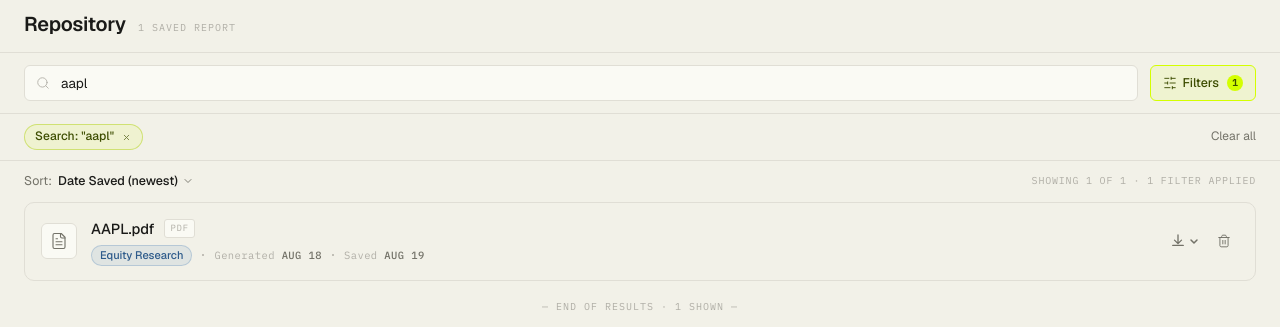
Scenario: Repository page › Clear all removes filters and resets URL
Expected: the text "Search: \"aapl\"" is shown, [35, 127, 114, 147]
What coordinates should you click on to do the following:
click the button "Clear all"
I would click on:
 (1233, 137)
Its box is [1211, 127, 1256, 147].
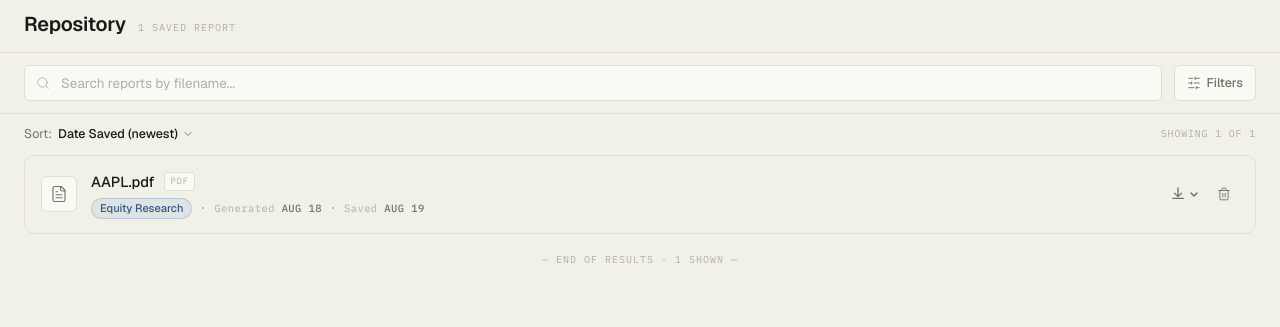
Expected: the text "Search:" is gone
